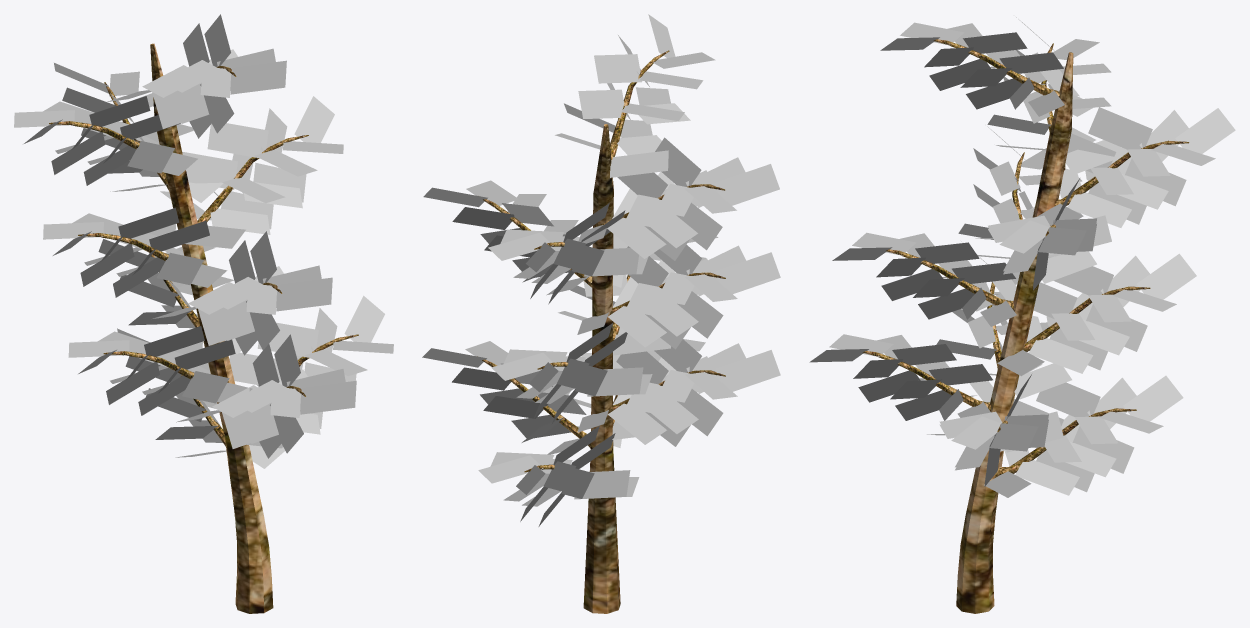
File: plant.fbx
3 renders of one model, left to right at view 1: azimuth 30°, elevation 25°; view 2: azimuth 150°, elevation 25°; view 3: azimuth 270°, elevation 25°, orthographic. The views are drawn at different scales.
Parts seen in each view (by area): view 1: pCylinder1, pPlane119, pPlane31, pPlane76, pPlane151, pPlane109, pPlane16, pPlane106, pPlane111, pPlane29, pPlane93, pPlane138 (+59 smaller); view 2: pCylinder1, pPlane136, pPlane91, pPlane46, pPlane164, pPlane154, pPlane162, pPlane141, pPlane51, pPlane96, pPlane63, pPlane4 (+59 smaller); view 3: pCylinder1, pPlane134, pPlane6, pPlane61, pPlane10, pPlane121, pPlane66, pPlane14, pPlane126, pPlane57, pPlane74, pPlane102 (+64 smaller).
Boxes of the visible parts, x1,y1,x2,y2 form: pCylinder1: [150, 43, 273, 613]; pPlane119: [207, 123, 268, 157]; pPlane31: [300, 380, 356, 414]; pPlane76: [276, 277, 332, 311]; pPlane151: [230, 60, 286, 94]; pPlane109: [182, 151, 237, 189]; pPlane16: [344, 295, 384, 342]; pPlane106: [294, 96, 334, 142]; pPlane111: [210, 208, 270, 234]; pPlane29: [257, 322, 318, 357]; pPlane93: [156, 252, 203, 285]; pPlane138: [127, 141, 174, 173]; pCylinder1: [583, 124, 620, 613]; pPlane136: [715, 164, 779, 205]; pPlane91: [715, 252, 780, 293]; pPlane46: [715, 350, 780, 391]; pPlane164: [594, 54, 642, 83]; pPlane154: [578, 89, 626, 118]; pPlane162: [610, 150, 668, 177]; pPlane141: [607, 217, 666, 258]; pPlane51: [608, 403, 666, 444]; pPlane96: [608, 306, 666, 347]; pPlane63: [587, 367, 643, 396]; pPlane4: [574, 470, 630, 499]; pCylinder1: [956, 52, 1073, 613]; pPlane134: [1088, 107, 1152, 149]; pPlane6: [1036, 382, 1100, 416]; pPlane61: [1136, 253, 1196, 299]; pPlane10: [1123, 375, 1183, 421]; pPlane121: [1175, 108, 1235, 153]; pPlane66: [1028, 338, 1092, 373]; pPlane14: [1015, 460, 1079, 495]; pPlane126: [1067, 192, 1131, 227]; pPlane57: [1014, 363, 1071, 399]; pPlane74: [1053, 266, 1113, 295]; pPlane102: [1042, 251, 1096, 283].
Size of the model in its own units: 62.73 by 95.54 by 65.1.
